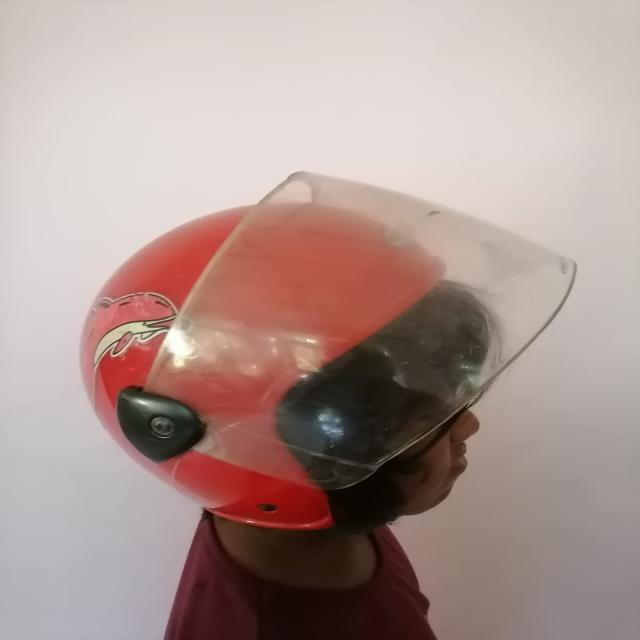With Helmet: (76, 169, 579, 536)
